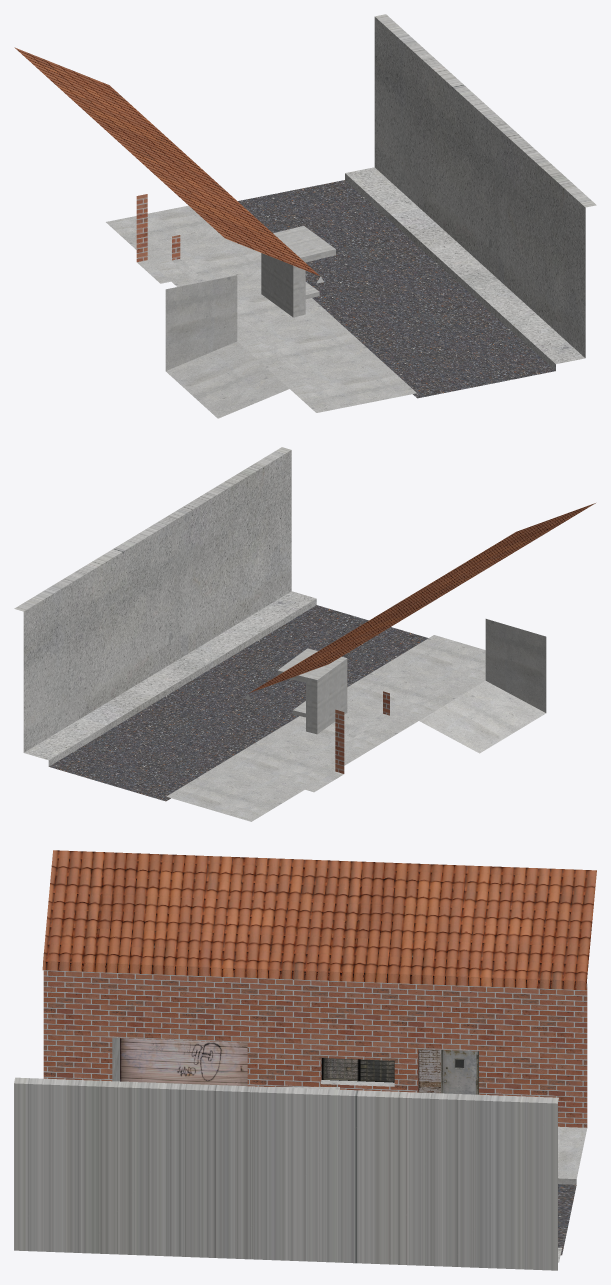
Rendered from street_irradiance.gltf.
The picture shows the model from 3 angles, top to bottom: view 1: azimuth 30°, elevation 25°; view 2: azimuth 150°, elevation 25°; view 3: azimuth 270°, elevation 25°; orthographic projection. The views are drawn at different scales.
Parts seen in each view (by area): view 1: building, station; view 2: building, station; view 3: building.
Part boxes in pixels (x1,y1,x2,y2): building: (14,14,596,418); station: (261,226,335,317); building: (14,447,595,821); station: (277,648,347,734); building: (14,850,596,1270).
Bounding box in the file's own units: 14.15 × 7.19 × 16.66.
6 materials, 5 textured.
